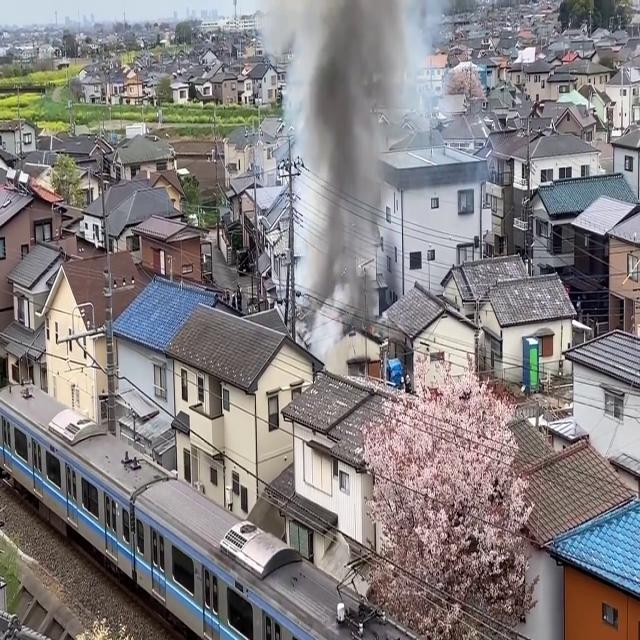Smoke: (302, 1, 396, 333)
